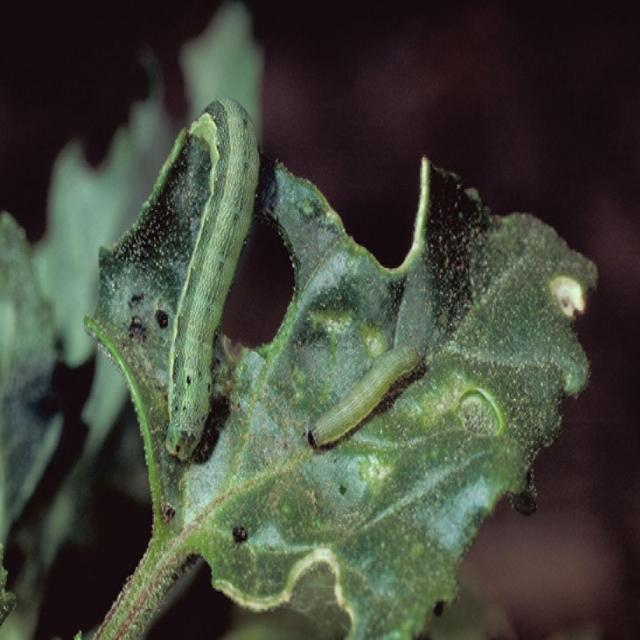BeetArmyWorm-Larva-: (158, 90, 262, 480), (301, 337, 427, 456)
